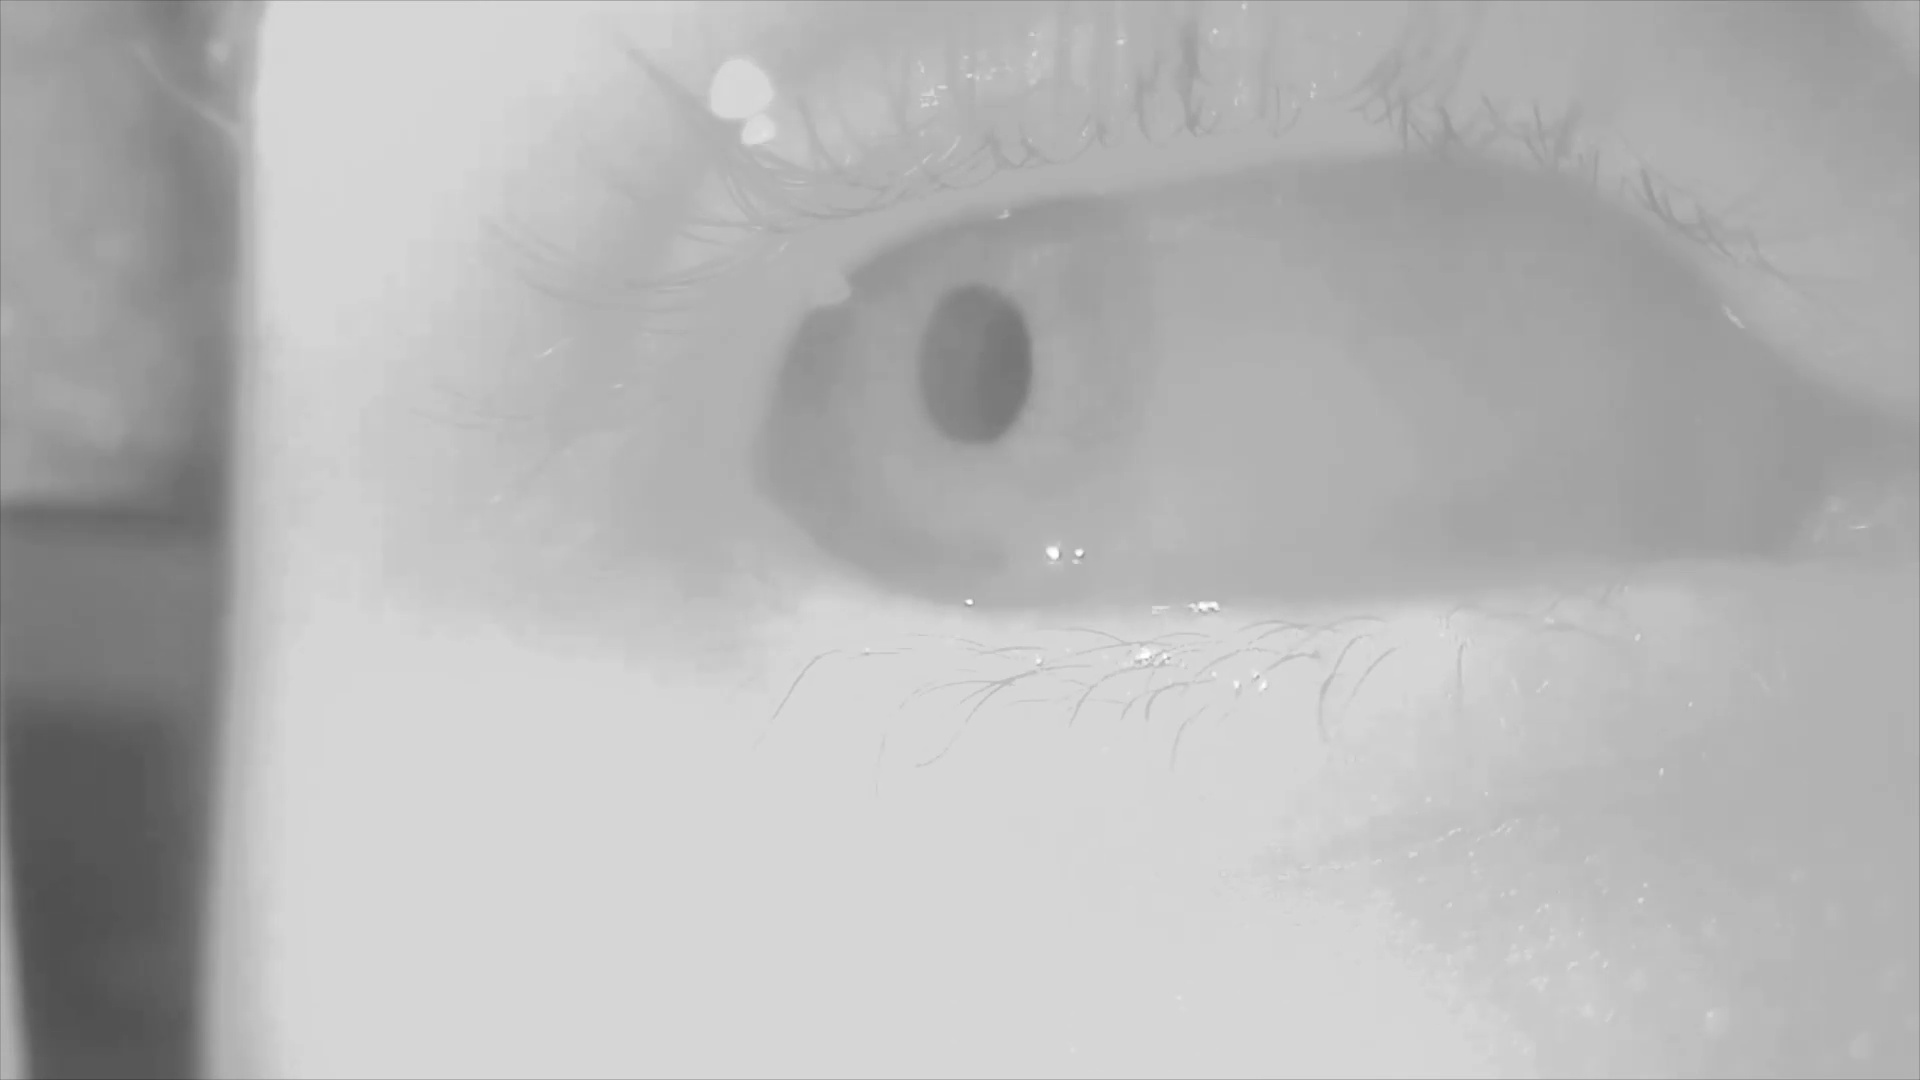pupil: (916, 287, 1031, 447)
